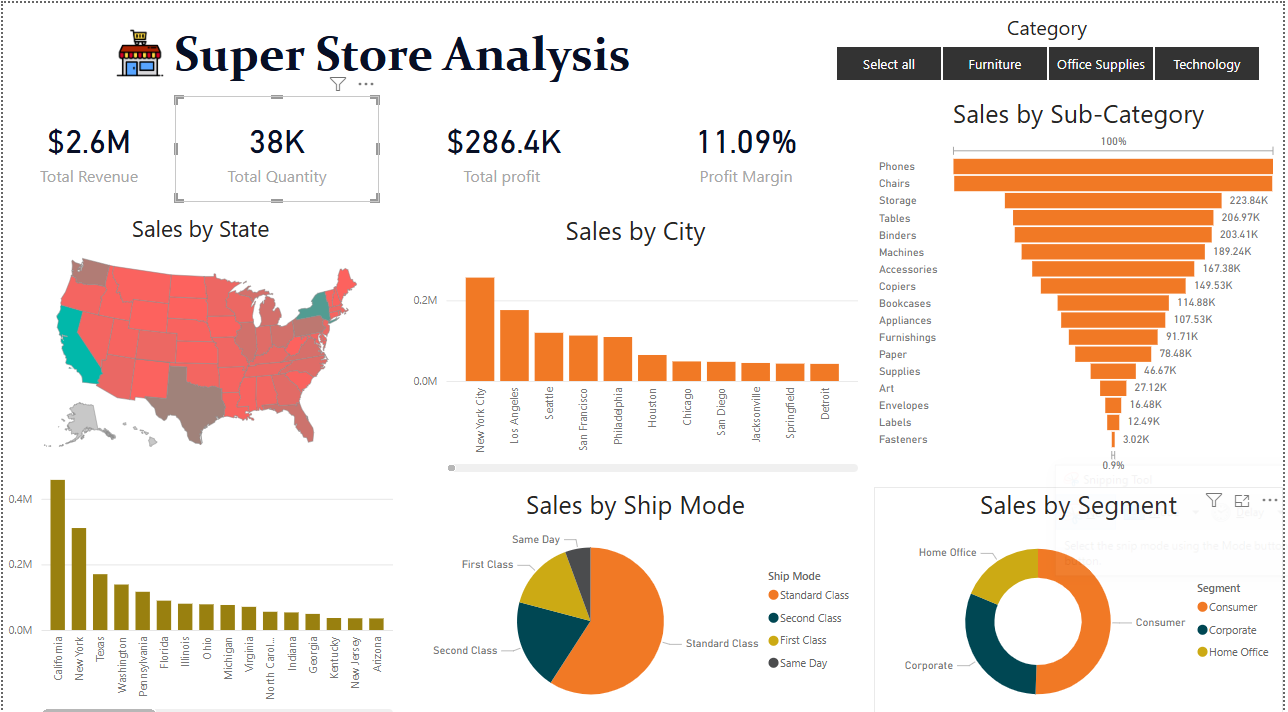

The dashboard page shown, as its layout file describes it:
{"tool":"powerbi","page":{"name":"Sales","canvas":[1280,720],"ordinal":0},"visuals":[{"type":"textbox","box":[165.7,16.4,479.3,72.1],"z":0,"group":"g1"},{"type":"card","fields":{"Values":["SampleSuperstore.Profit plus Sales"]},"box":[0,93,171.8,106.3],"z":0},{"type":"image","box":[107.7,20.4,58.2,59.3],"z":1000,"group":"g1"},{"type":"card","fields":{"Values":["Sum(SampleSuperstore.Quantity)"]},"box":[171.8,93,204.6,106.3],"z":1000},{"type":"card","fields":{"Values":["Sum(SampleSuperstore.Profit)"]},"box":[376.4,93,249.7,106.3],"z":2000},{"type":"card","fields":{"Values":["SampleSuperstore.Profit divided by Total Revenue"]},"box":[626.1,93,233.8,106.3],"z":3000},{"type":"shapeMap","title":"Sales by State","fields":{"Category":["SampleSuperstore.State"],"Value":["Sum(SampleSuperstore.Sales)"]},"box":[0,209.9,395,248.9],"z":4000},{"type":"clusteredColumnChart","fields":{"Y":["Sum(SampleSuperstore.Sales)"],"Category":["SampleSuperstore.State"]},"box":[0,449,395,270.1],"z":5000},{"type":"clusteredColumnChart","title":"Sales by City","fields":{"Y":["Sum(SampleSuperstore.Sales)"],"Category":["SampleSuperstore.City"]},"box":[404.7,209.9,455.2,263.9],"z":6000},{"type":"pieChart","title":"Sales by Ship Mode","fields":{"Category":["SampleSuperstore.Ship Mode"],"Y":["Sum(SampleSuperstore.Sales)"]},"box":[404.7,483.5,455.2,235.6],"z":7000},{"type":"funnel","title":"Sales by Sub-Category","fields":{"Category":["SampleSuperstore.Sub-Category"],"Y":["Sum(SampleSuperstore.Sales)"]},"box":[870.6,93,409.2,380.8],"z":8000},{"type":"donutChart","title":"Sales by Segment","fields":{"Category":["SampleSuperstore.Segment"],"Y":["Sum(SampleSuperstore.Sales)"]},"box":[870.6,484.4,409.2,235.6],"z":9000},{"type":"slicer","title":"Category","fields":{"Values":["SampleSuperstore.Category"]},"box":[808.3,10,471.7,73.9],"z":10000},{"type":"group","id":"g1","title":"Group 1","box":[107.7,16.4,537.4,72.1],"z":11000}]}

Visuals, with their boxes in screenshot pixels (x1, y1, x2, y2), scaled from the page's 1280x720 canvas onto the 1288x712 screenshot:
textbox: (left=167, top=16, right=649, bottom=88)
card - SampleSuperstore.Profit plus Sales: (left=0, top=92, right=173, bottom=197)
image: (left=108, top=20, right=167, bottom=79)
card - Sum(SampleSuperstore.Quantity): (left=173, top=92, right=379, bottom=197)
card - Sum(SampleSuperstore.Profit): (left=379, top=92, right=630, bottom=197)
card - SampleSuperstore.Profit divided by Total Revenue: (left=630, top=92, right=865, bottom=197)
"Sales by State" shapeMap: (left=0, top=208, right=397, bottom=454)
clusteredColumnChart - Sum(SampleSuperstore.Sales) x SampleSuperstore.State: (left=0, top=444, right=397, bottom=711)
"Sales by City" clusteredColumnChart: (left=407, top=208, right=865, bottom=469)
"Sales by Ship Mode" pieChart: (left=407, top=478, right=865, bottom=711)
"Sales by Sub-Category" funnel: (left=876, top=92, right=1287, bottom=469)
"Sales by Segment" donutChart: (left=876, top=479, right=1287, bottom=711)
"Category" slicer: (left=813, top=10, right=1287, bottom=83)
"Group 1" group: (left=108, top=16, right=649, bottom=88)
